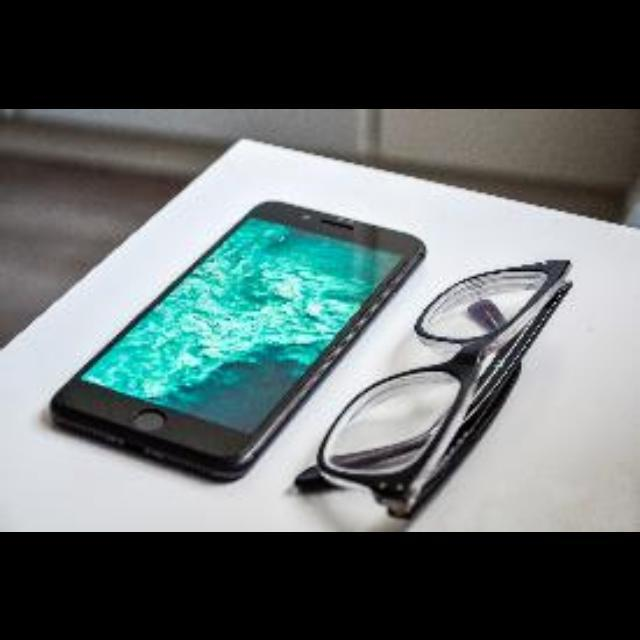Phone: (50, 198, 424, 478)
